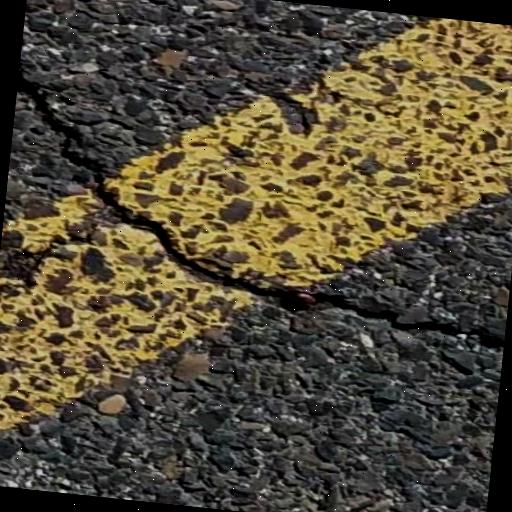spalling: (15, 72, 505, 359)
